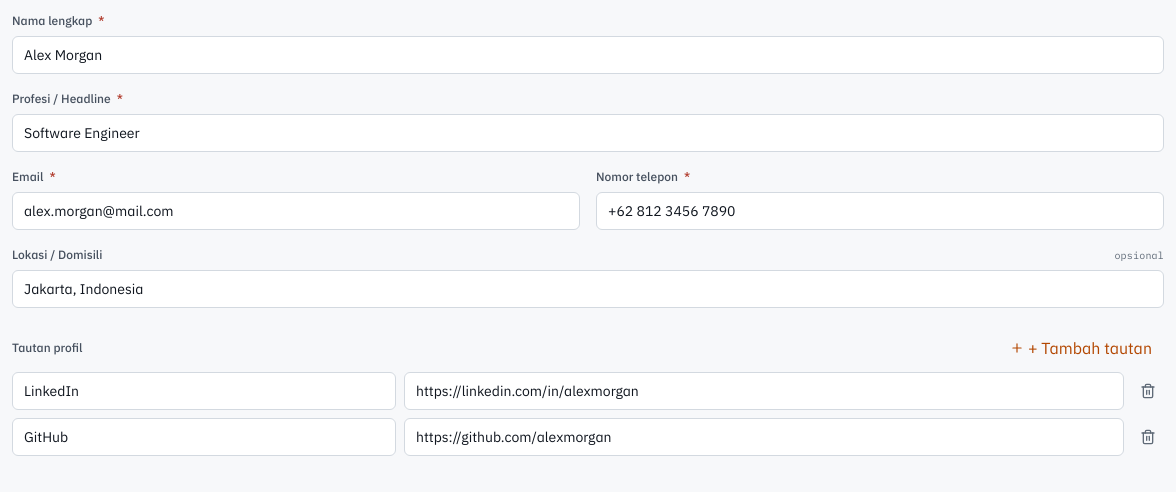
Test case: Sanitasi URL — UI editor › baris tautan ProfileEditor menampilkan form.urlUnsafe untuk skema berbahaya
The width and height of the screenshot is (1176, 492).
Replace the text in the 2nd field named "URL tautan" with "javascript:alert(1)" at point(764, 391), box [404,372,1124,410]
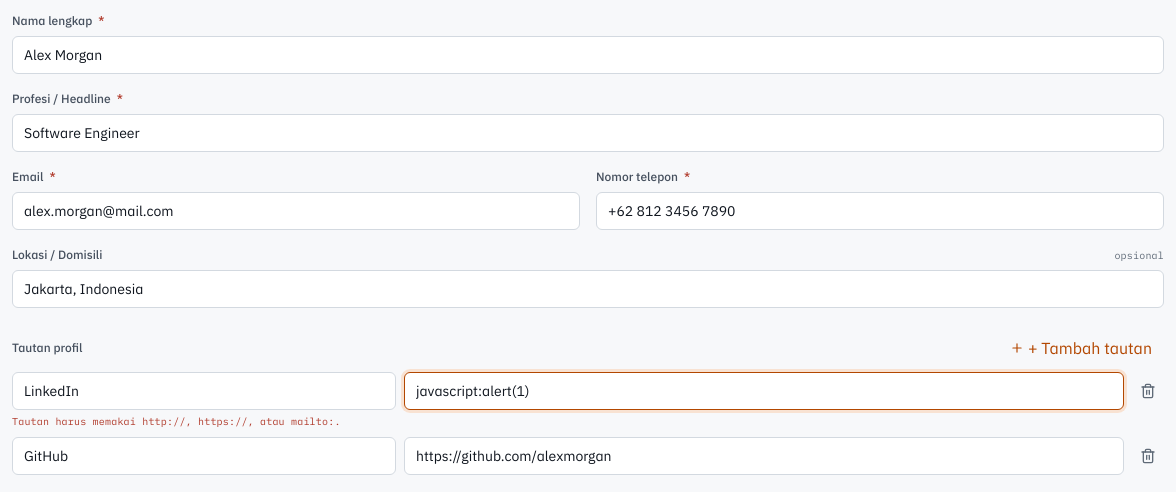
Check: the message reads "Tautan harus memakai http://, https://, atau mailto:.", box [12,415,341,428]
Note: Blur menetralkan skema → pesan hilang dan store bebas "javascript:".
Press Tab
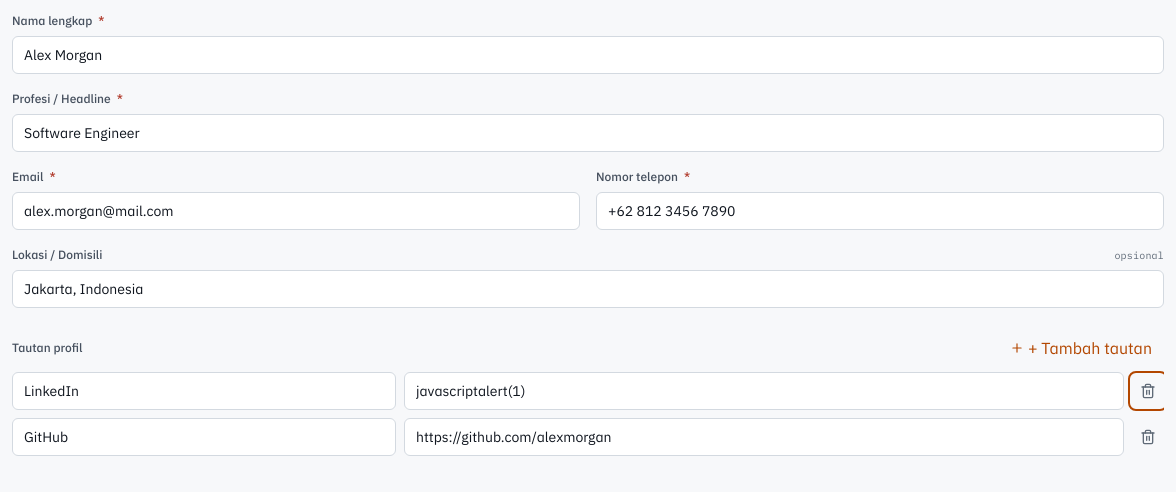
Check: the message "Tautan harus memakai http://, https://, atau mailto:." is gone
